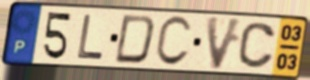5: (41, 10, 73, 61)
C: (152, 15, 194, 69), (236, 20, 278, 70)
D: (112, 13, 158, 67)
L: (75, 13, 106, 63)
V: (205, 14, 246, 72)
